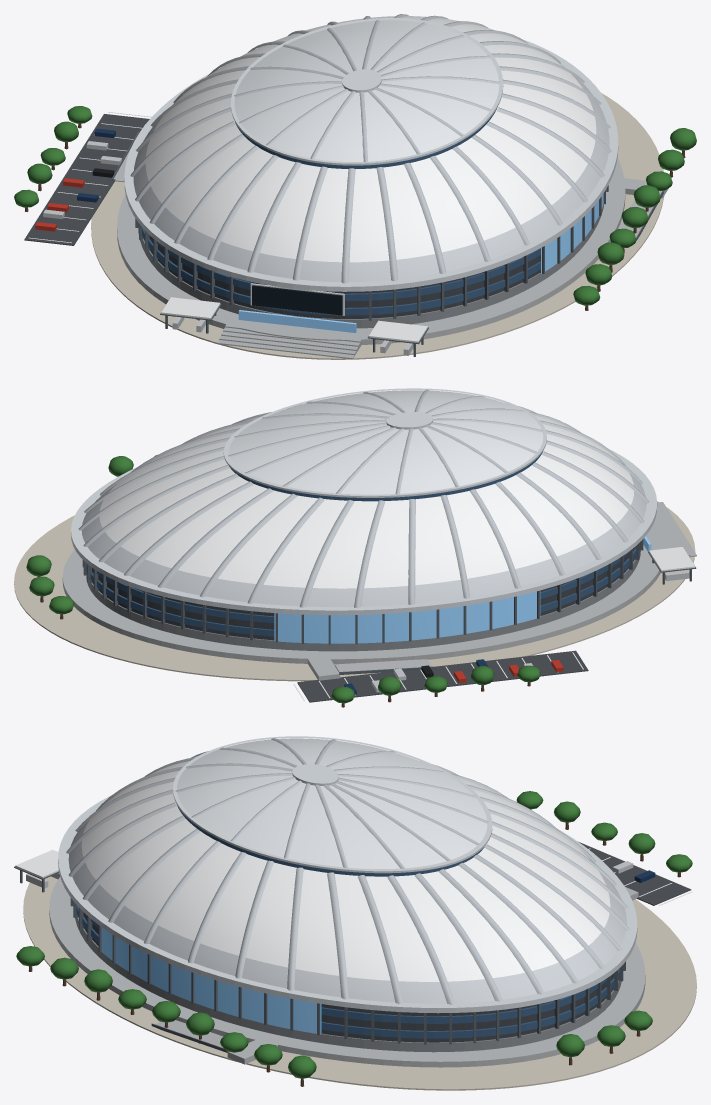
File: gocheok-skydome.glb
The picture shows the model from 3 angles, top to bottom: view 1: azimuth 30°, elevation 25°; view 2: azimuth 150°, elevation 25°; view 3: azimuth 270°, elevation 25°; orthographic projection. The views are drawn at different scales.
Bounding box in the file's own units: 225 × 54.99 × 219.
